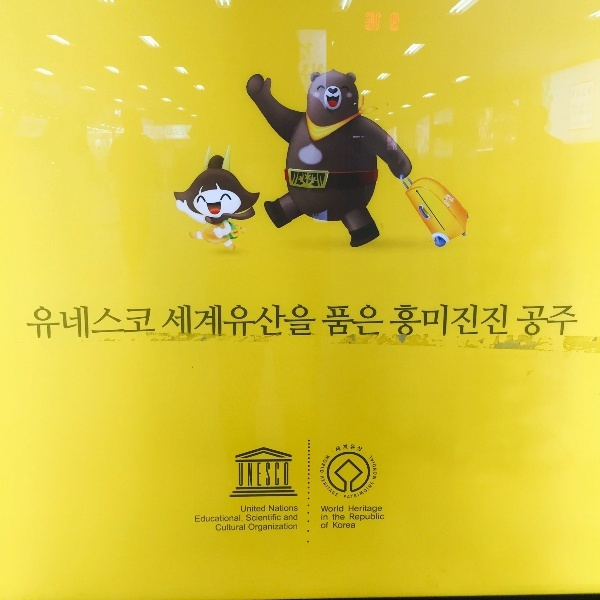text: (33, 305, 48, 343), (49, 305, 64, 343), (65, 305, 80, 343), (81, 305, 96, 343), (97, 305, 112, 343), (113, 305, 128, 343), (129, 305, 144, 343), (369, 305, 385, 338), (401, 302, 416, 337), (417, 302, 432, 337), (433, 302, 448, 337), (449, 302, 464, 337), (465, 302, 480, 337), (481, 302, 496, 337), (177, 304, 192, 338), (193, 304, 208, 338), (209, 304, 224, 338), (225, 304, 240, 338), (241, 304, 256, 338), (257, 304, 272, 338), (273, 304, 288, 338), (289, 304, 304, 338), (337, 305, 352, 338), (353, 305, 368, 338), (529, 305, 544, 338), (545, 305, 560, 338), (561, 305, 576, 338), (322, 305, 336, 338), (497, 302, 509, 337), (305, 304, 317, 338), (273, 463, 289, 487), (145, 305, 155, 343), (517, 305, 528, 338), (241, 463, 256, 487), (257, 463, 272, 487), (391, 302, 400, 337), (369, 12, 384, 32), (385, 12, 399, 32), (169, 304, 176, 338), (321, 455, 331, 475), (372, 464, 384, 480), (27, 305, 32, 343), (324, 476, 336, 489), (257, 523, 272, 533), (273, 523, 288, 533), (369, 513, 385, 522), (353, 513, 368, 522), (353, 505, 368, 514), (371, 455, 384, 465), (369, 505, 383, 514), (225, 524, 240, 532), (257, 514, 272, 522), (241, 505, 256, 513), (209, 515, 224, 523), (225, 515, 240, 523), (321, 522, 336, 530), (321, 505, 336, 513), (353, 491, 368, 499), (273, 505, 288, 512), (337, 522, 352, 529), (321, 514, 336, 521), (195, 515, 208, 523), (577, 305, 580, 338), (289, 523, 298, 533), (337, 444, 348, 452), (329, 486, 336, 498), (369, 481, 375, 494), (247, 514, 256, 522), (257, 505, 266, 513), (249, 523, 256, 533), (363, 481, 368, 494), (216, 524, 224, 532), (273, 514, 281, 522), (289, 514, 298, 521), (289, 505, 298, 512), (359, 446, 368, 453), (337, 514, 345, 521), (337, 505, 344, 513), (238, 463, 240, 487), (241, 524, 246, 532), (366, 12, 368, 32), (344, 495, 352, 499), (284, 514, 288, 521), (349, 505, 352, 514), (337, 486, 339, 498), (269, 505, 272, 512), (333, 522, 336, 529), (333, 514, 336, 521), (319, 455, 320, 475), (350, 513, 352, 522), (241, 515, 243, 523), (353, 522, 355, 529), (350, 444, 352, 450), (353, 444, 355, 450)
